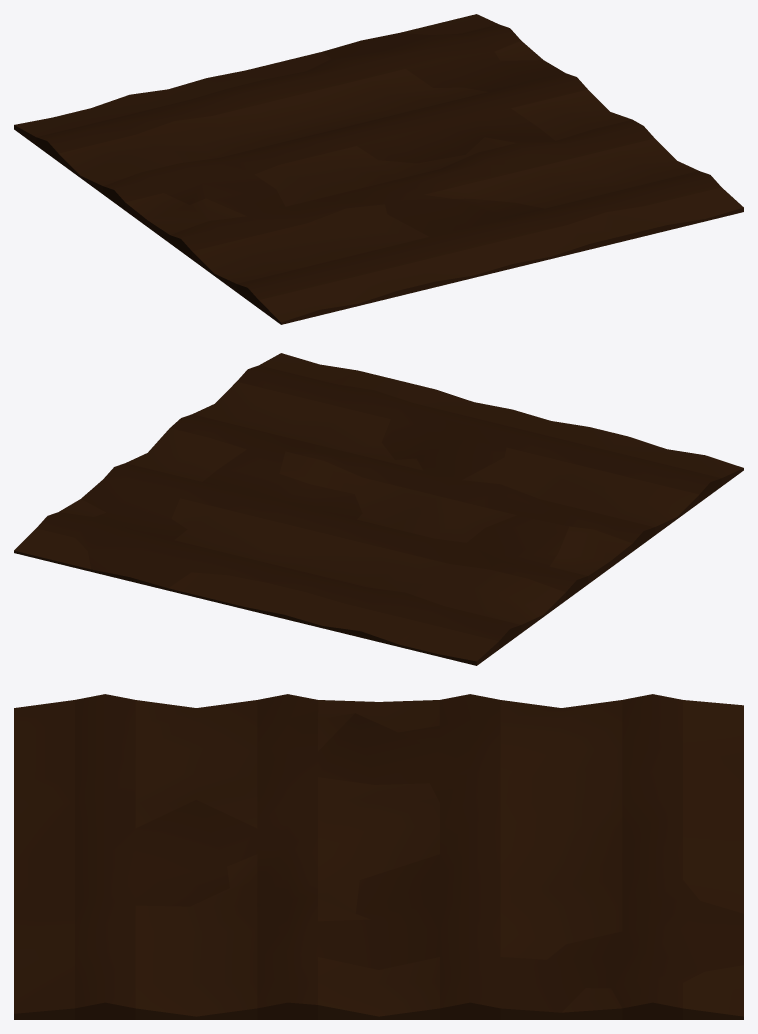
File: terrainv3.fbx
The picture shows the model from 3 angles, top to bottom: view 1: azimuth 30°, elevation 25°; view 2: azimuth 150°, elevation 25°; view 3: azimuth 270°, elevation 25°; orthographic projection. The views are drawn at different scales.
Visible parts, largest first — view 1: Box002; view 2: Box002; view 3: Box002.
Boxes of the visible parts, x1,y1,x2,y2 form: Box002: [14, 14, 743, 324]; Box002: [14, 353, 743, 665]; Box002: [14, 694, 743, 1019].
Size of the model in its own units: 10 by 0.4756 by 10.
